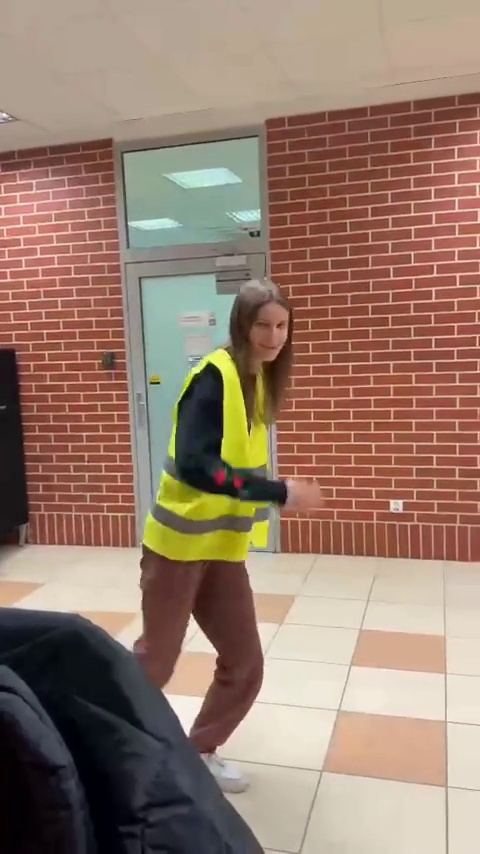vest: (142, 279, 299, 797)
